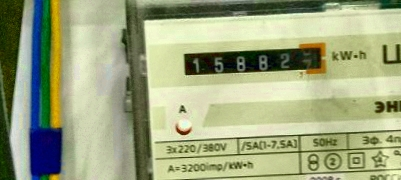1: (190, 56, 201, 74)
2: (278, 51, 290, 68)
5: (211, 55, 224, 72)
7: (301, 57, 312, 70)
8: (234, 54, 246, 71), (257, 53, 268, 70)
screen: (176, 39, 332, 80)
